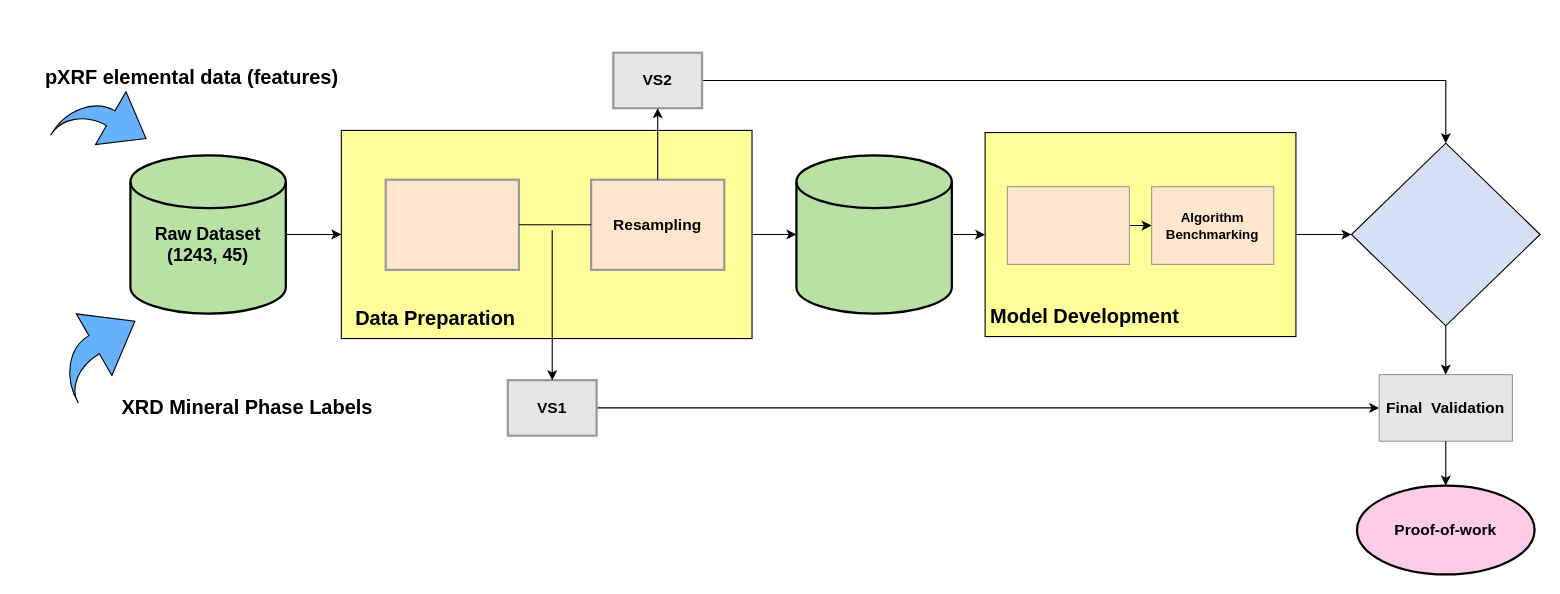
The diagram is 1560 pixels wide and 594 high, and some of its shapes have lost their labels. Each missing label, with the centre of its shape:
"Data Transformation" belongs at (x=451, y=224).
"Model evaluation and Tuning" belongs at (x=1445, y=234).
"Pre-processed Dataset (4082, 45)" belongs at (x=873, y=234).
"Stratified Cross-Validation k=10" belongs at (x=1067, y=225).
